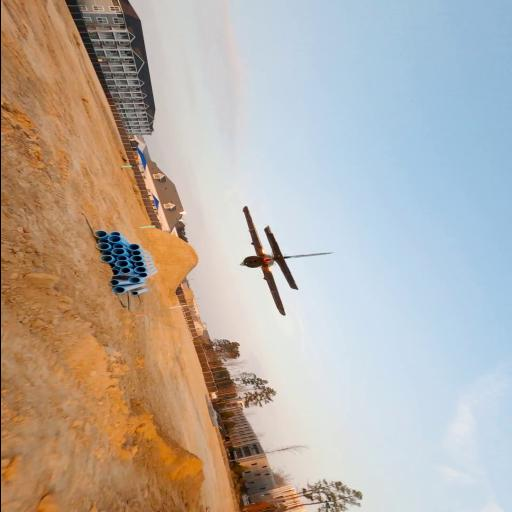uav: (234, 204, 336, 320)
